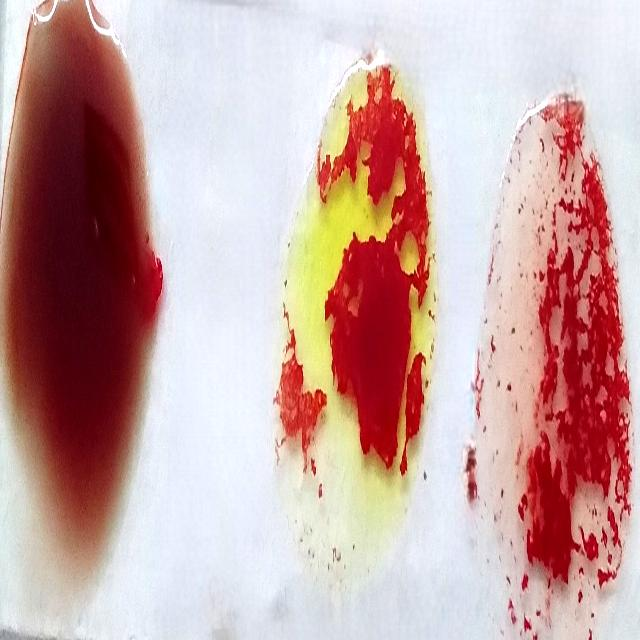B: (286, 46, 434, 576)
D: (486, 96, 635, 640)
